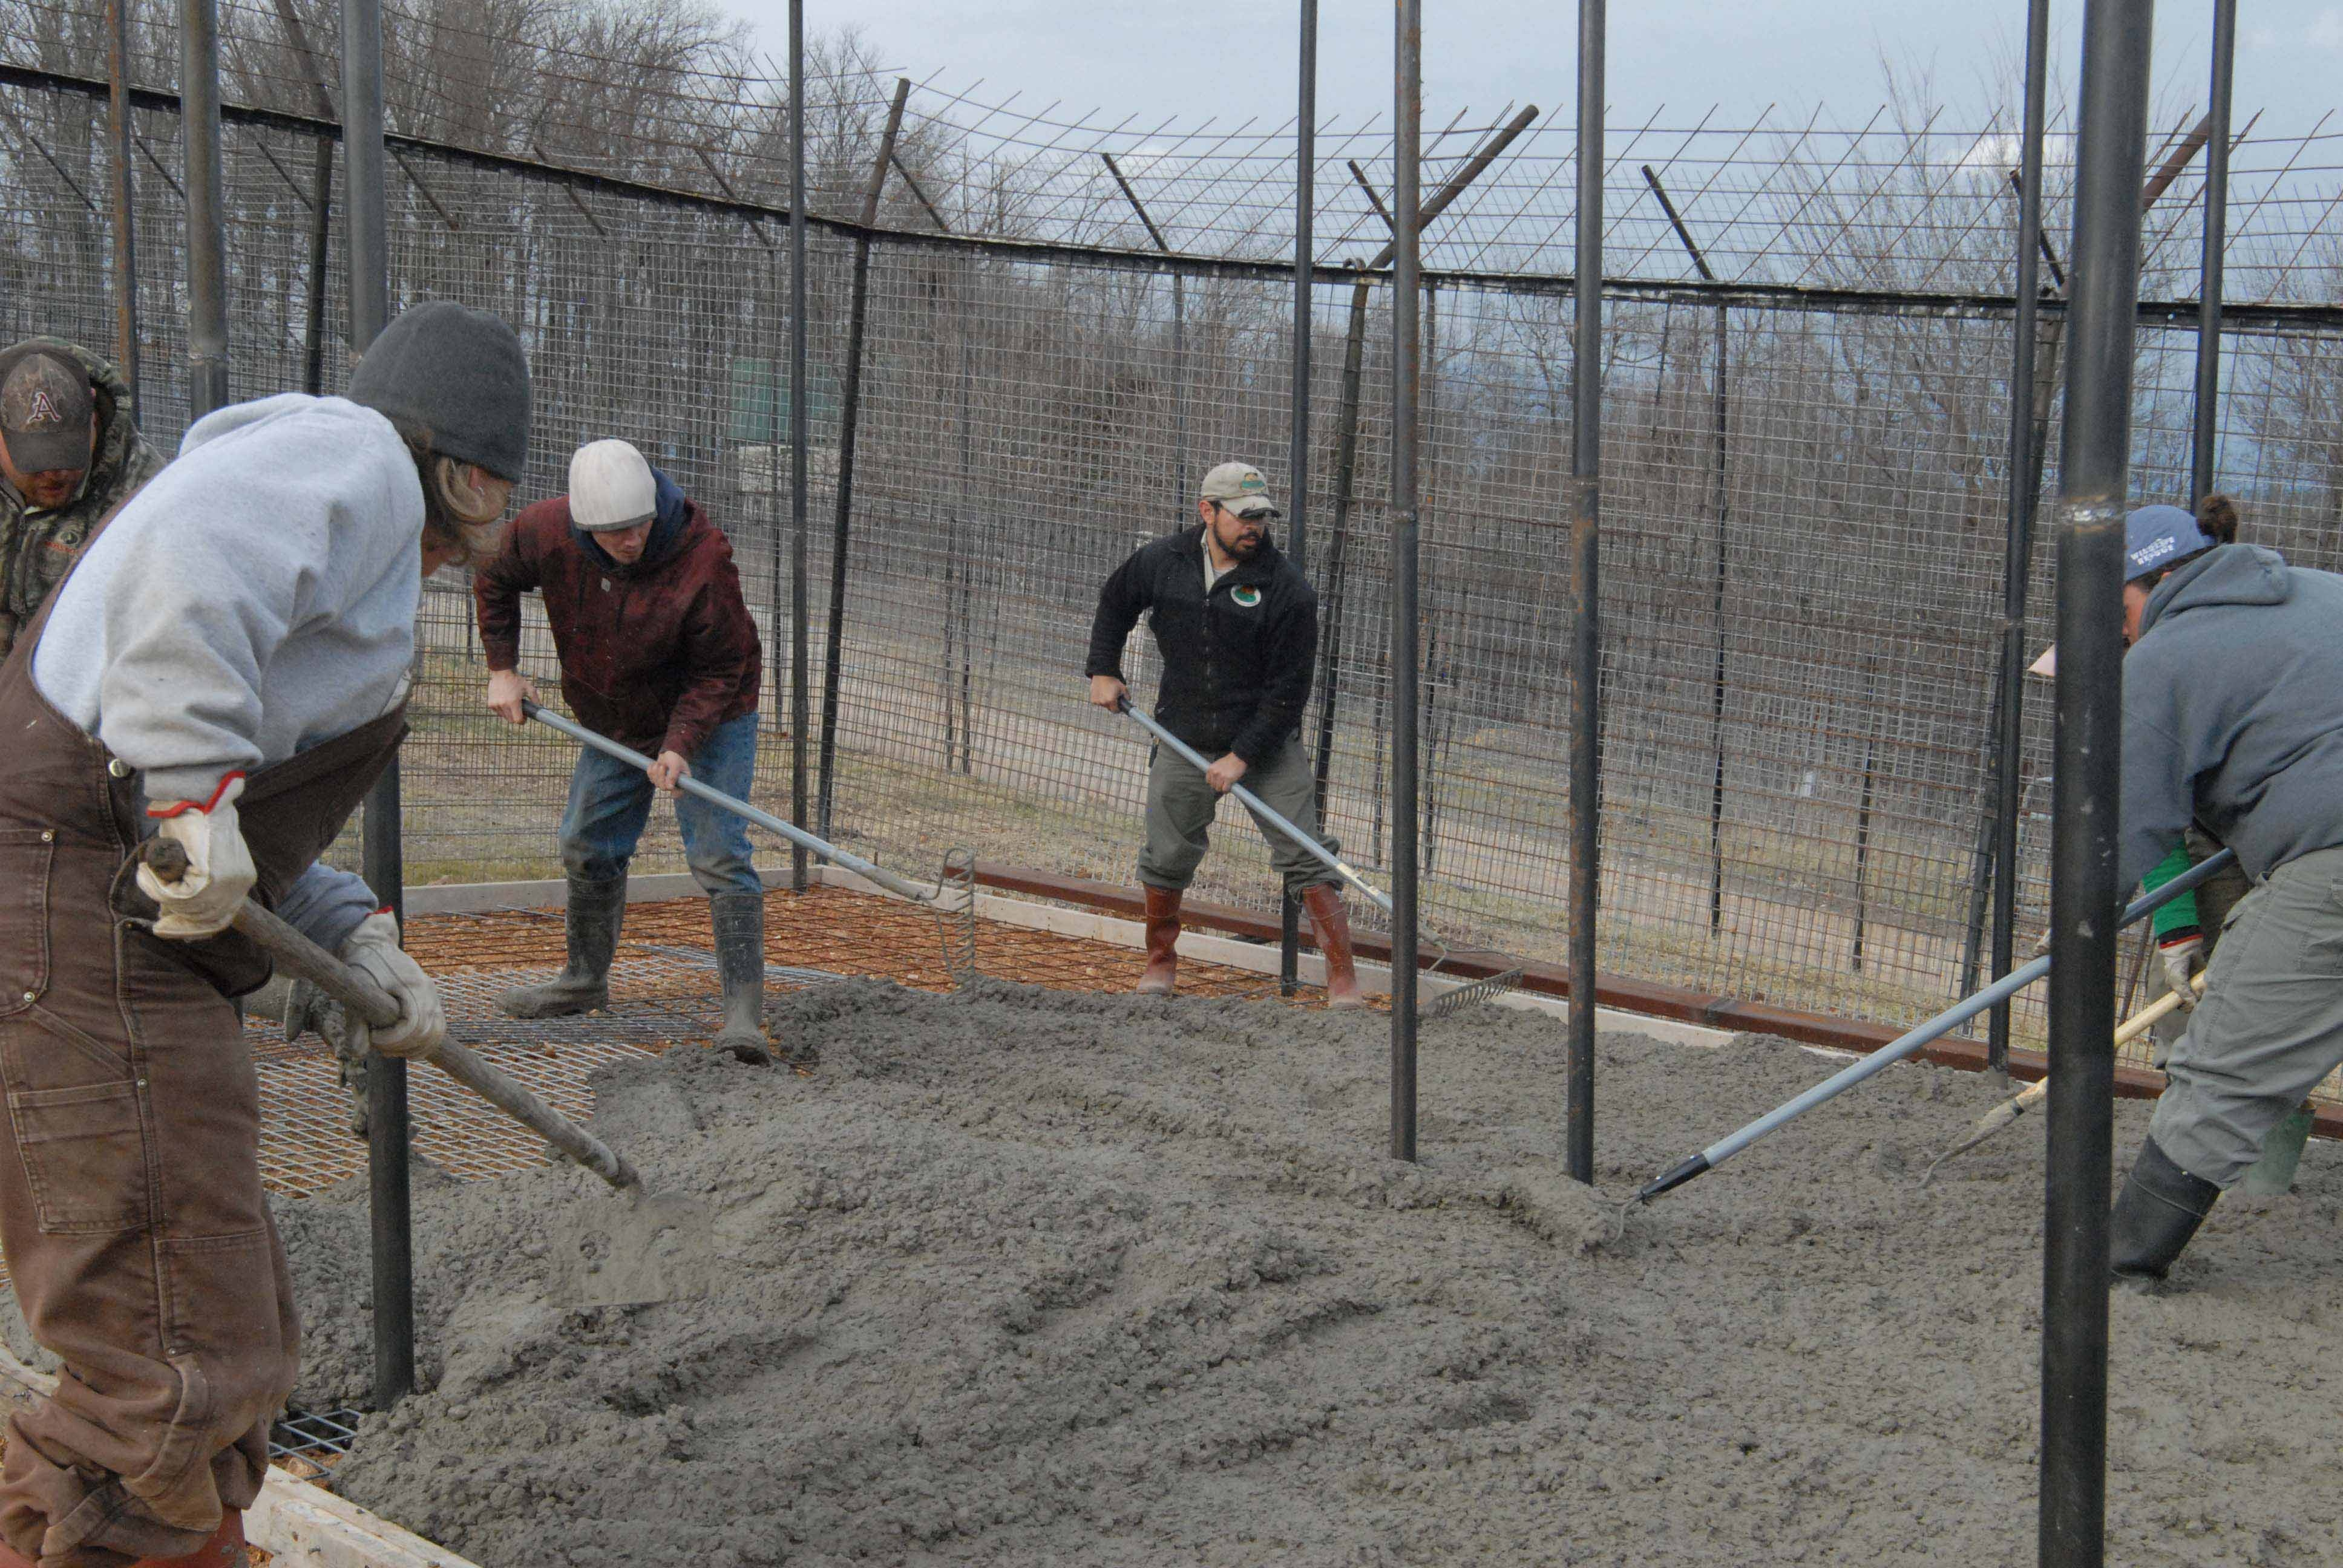blue: (2116, 495, 2228, 639)
none: (343, 299, 535, 558), (9, 341, 105, 507), (1197, 460, 1274, 560)
white: (569, 441, 665, 569)
